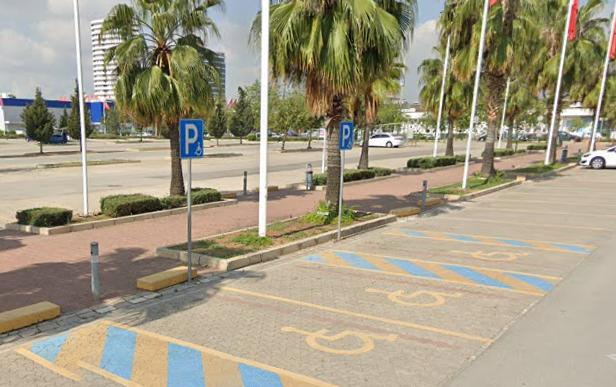disabledpark: (180, 119, 204, 157), (339, 121, 352, 147)
